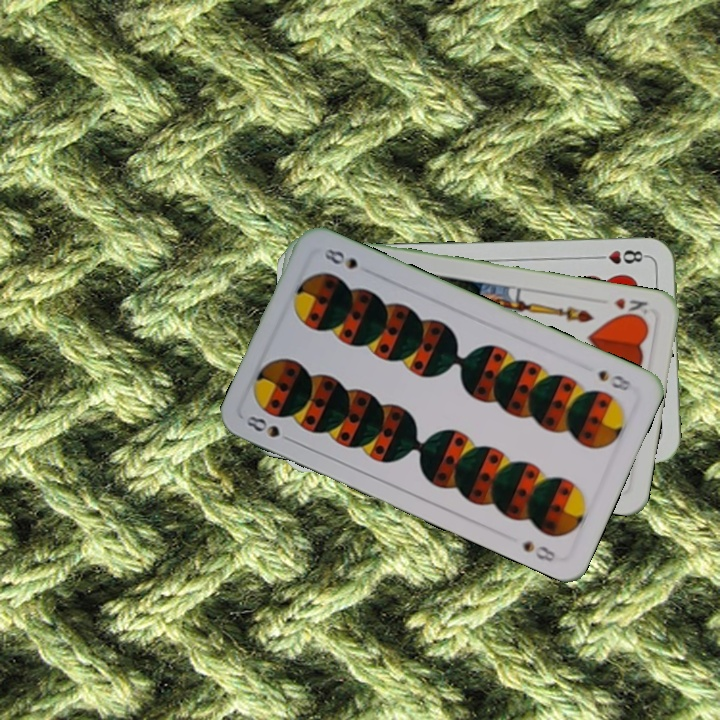H8: (591, 246, 650, 267)
HK: (610, 294, 650, 322)
S8: (241, 411, 298, 446), (594, 365, 639, 394)
